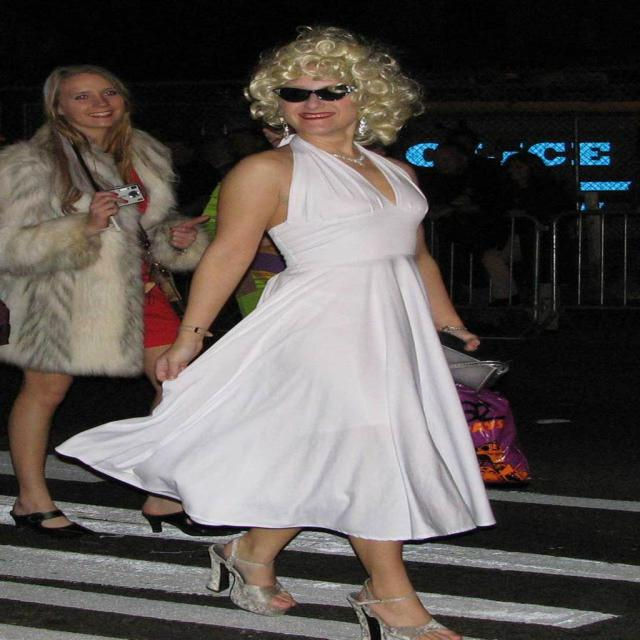Face: (256, 53, 384, 136), (54, 70, 134, 137)
